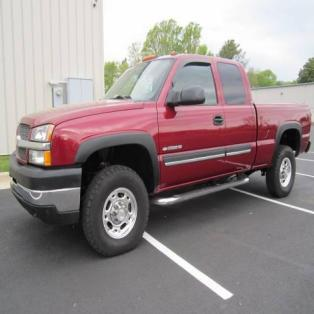Auto: (7, 48, 313, 260)
